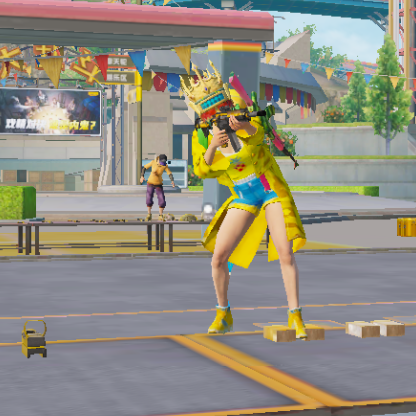ren: (189, 59, 307, 334), (142, 151, 175, 222)
tou: (181, 69, 234, 120), (154, 153, 169, 167)
